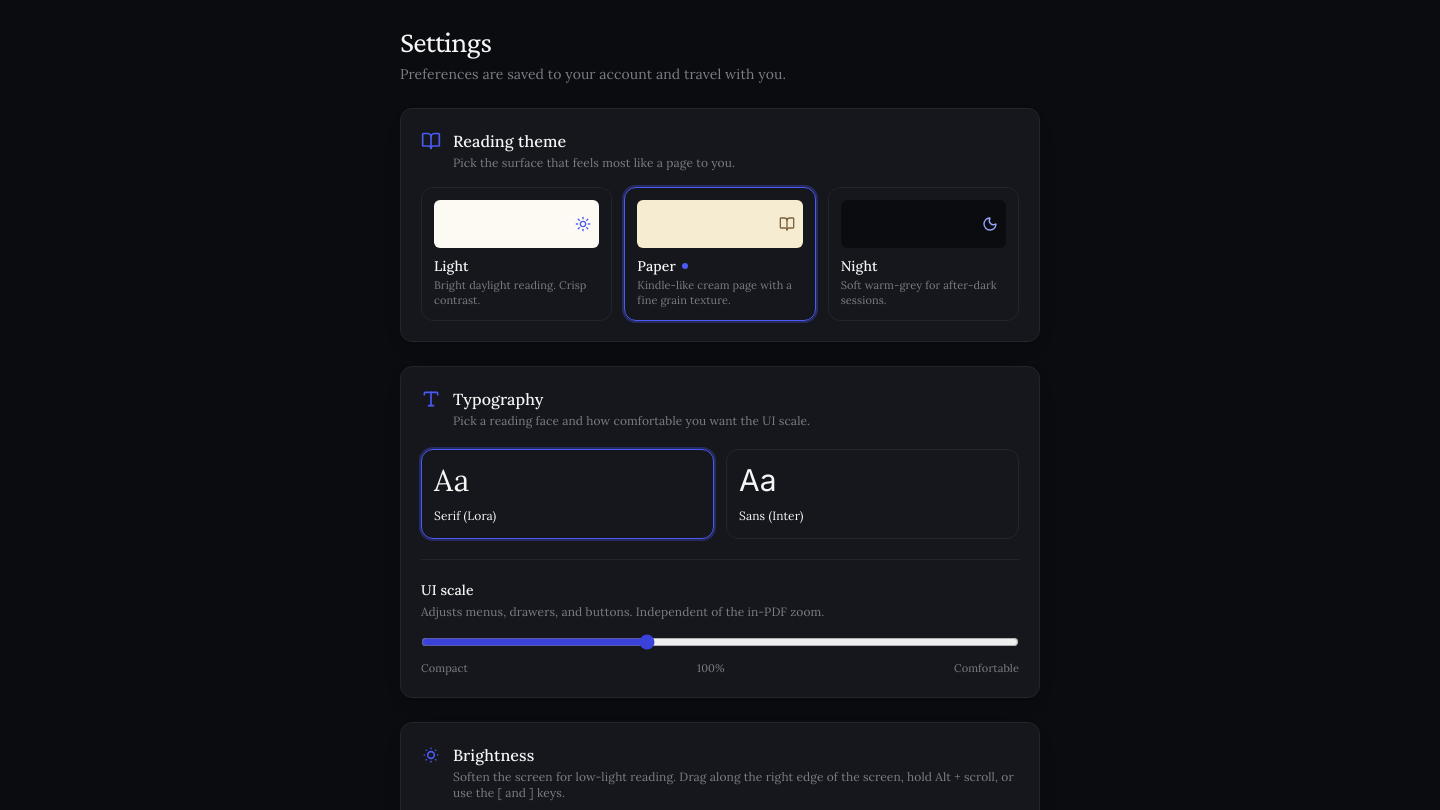
Test: <Settings /> › rolls back the optimistic theme change on a save failure
Click the radio button labelled "Light Bright daylight reading. Crisp contrast.": click(517, 254) top-left (421, 187), bottom-right (612, 321)
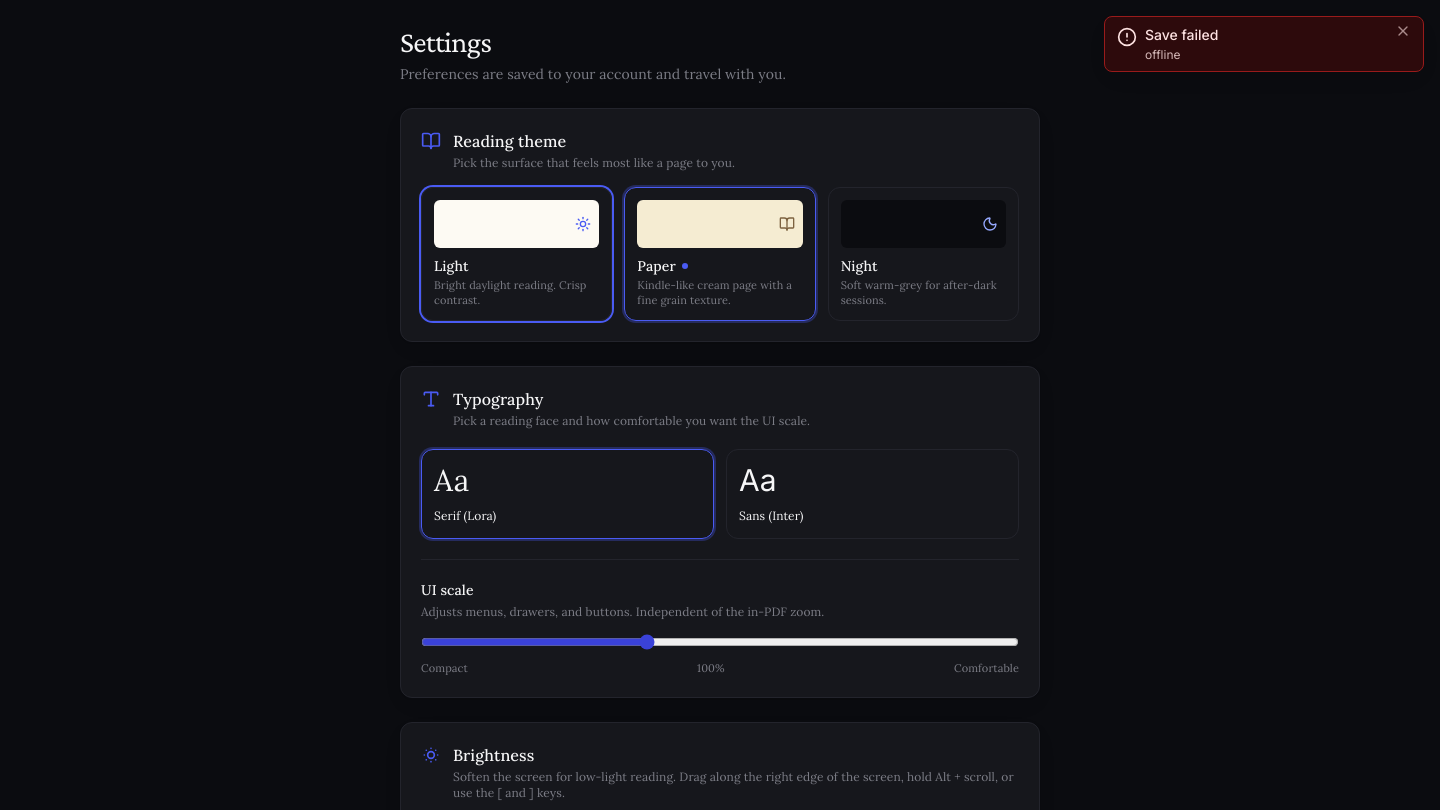
Now the text "Save failed" is shown, box top-left (1145, 26), bottom-right (1218, 43)
